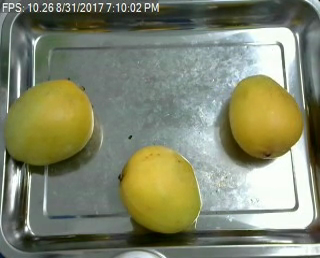Mango: (115, 139, 215, 242), (8, 73, 102, 168), (220, 69, 308, 166)
